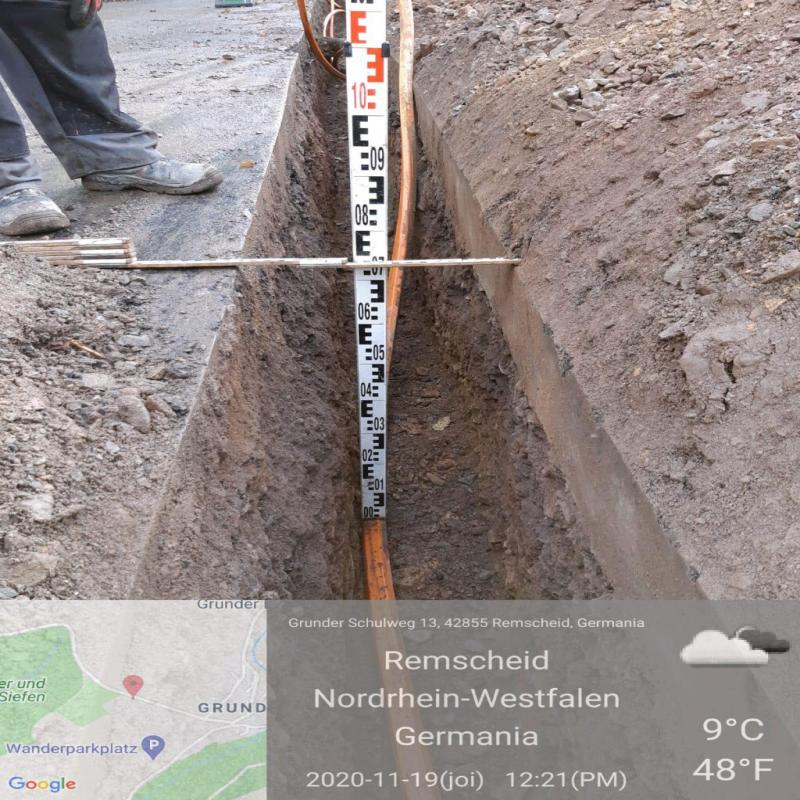Orang-Speednetrohrchen: (386, 58, 415, 369), (363, 518, 395, 600)
